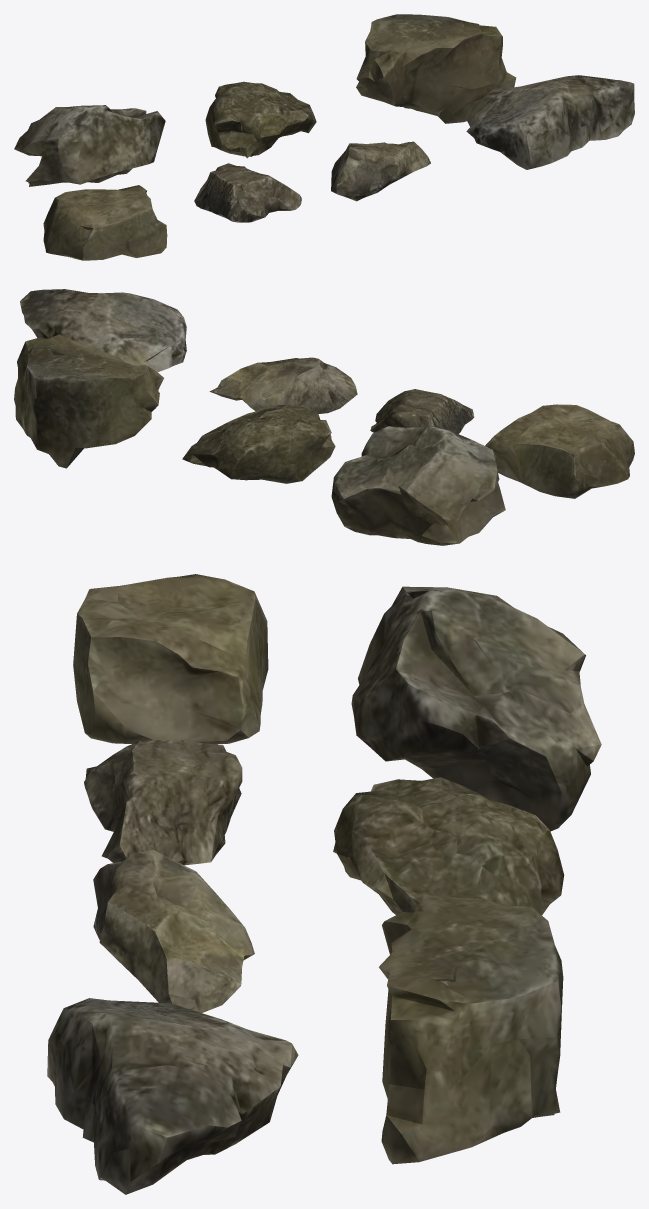
Rendered from scree_shards.glb.
3 views of the same model, one above another, from view 1: azimuth 30°, elevation 25°; view 2: azimuth 150°, elevation 25°; view 3: azimuth 270°, elevation 25° (orthographic). The views are drawn at different scales.
Visible parts, largest first — view 1: scree_shards; view 2: scree_shards; view 3: scree_shards.
Part boxes in pixels (box(x1,y1,x2,y2)): scree_shards: box(14, 14, 634, 260); scree_shards: box(14, 289, 634, 545); scree_shards: box(47, 574, 601, 1194).
Bounding box in the file's own units: 5 × 0.8149 × 2.06.
1 material, 1 textured.
